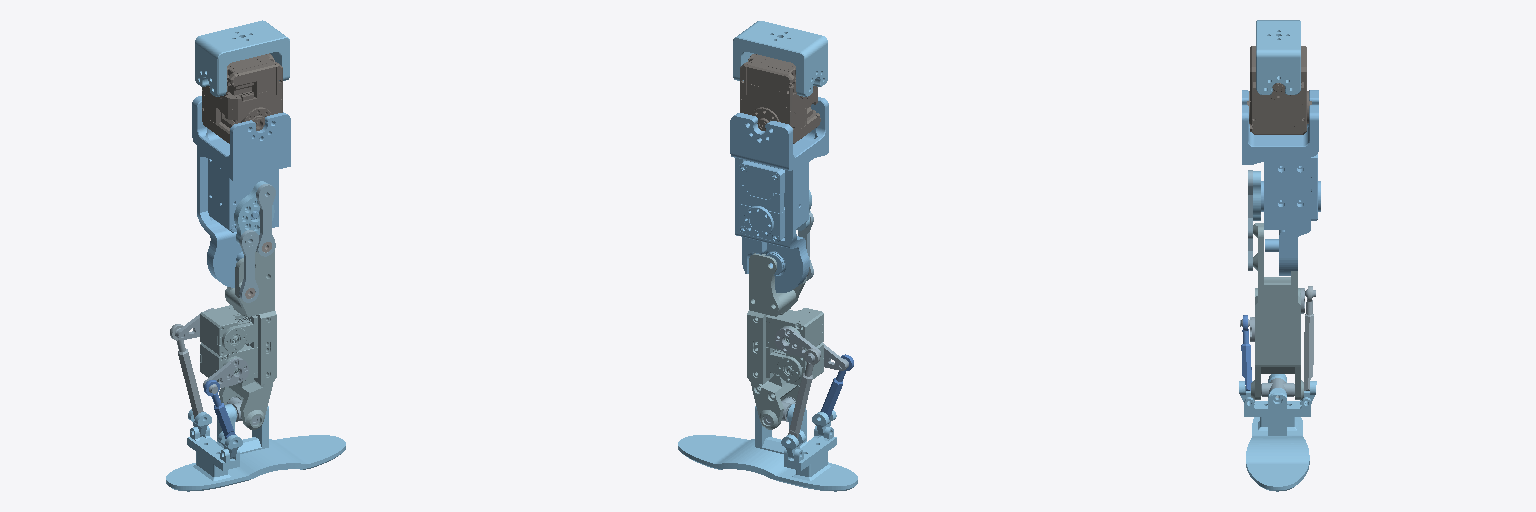
--- Facts derived from the render (not from the file) ---
The picture shows the robot from 3 angles, left to right: view 1: azimuth 30°, elevation 25°; view 2: azimuth 150°, elevation 25°; view 3: azimuth 270°, elevation 25°; orthographic projection.
Robot: left_leg_XM430 — 18 links, 17 joints (16 revolute, 1 fixed); root link hip_yaw_link; default pose: all joints at 0.
Visible links, largest first — view 1: left_hip_pitch_link_xm430, left_calf_link, left_sole_link, hip_roll_link, hip_yaw_link, ank_roll_link, knee_rod, knee_rod_2, xm430_plate, ank_motor_rod_long, ank_motor_arm_2, ank_motor_rod_short; view 2: left_hip_pitch_link_xm430, left_calf_link, left_sole_link, hip_roll_link, hip_yaw_link, ank_roll_link, ank_motor_rod_long, ank_motor_arm, ank_motor_rod_short; view 3: left_hip_pitch_link_xm430, left_calf_link, left_sole_link, hip_yaw_link, hip_roll_link, ank_roll_link, ank_motor_rod_long, ank_motor_rod_short.
Boxes of the visible links, x1,y1,x2,y2 form: left_hip_pitch_link_xm430: [192, 96, 290, 287]; left_calf_link: [200, 239, 276, 429]; left_sole_link: [166, 435, 345, 491]; hip_roll_link: [202, 53, 282, 143]; hip_yaw_link: [195, 20, 289, 96]; ank_roll_link: [187, 404, 268, 470]; knee_rod: [256, 184, 275, 256]; knee_rod_2: [239, 230, 258, 302]; xm430_plate: [234, 181, 274, 243]; ank_motor_rod_long: [170, 324, 203, 418]; ank_motor_arm_2: [203, 358, 248, 393]; ank_motor_rod_short: [204, 380, 235, 438]; left_hip_pitch_link_xm430: [730, 97, 828, 292]; left_calf_link: [747, 253, 823, 429]; left_sole_link: [678, 435, 857, 491]; hip_roll_link: [740, 54, 820, 143]; hip_yaw_link: [733, 21, 827, 96]; ank_roll_link: [755, 404, 836, 470]; ank_motor_rod_long: [788, 348, 819, 438]; ank_motor_arm: [775, 327, 820, 362]; ank_motor_rod_short: [821, 354, 853, 418]; left_hip_pitch_link_xm430: [1242, 90, 1320, 275]; left_calf_link: [1251, 223, 1303, 399]; left_sole_link: [1246, 417, 1309, 491]; hip_yaw_link: [1256, 20, 1300, 94]; hip_roll_link: [1247, 46, 1311, 134]; ank_roll_link: [1244, 374, 1310, 435]; ank_motor_rod_long: [1304, 286, 1313, 390]; ank_motor_rod_short: [1241, 315, 1251, 390].
Bounding box of the posed robot: 0.12 × 0.0516 × 0.285 m (x, y, z).
Meshes: 18 distinct files referenced, 18 mesh visuals loaded (18 binary STL).

URDF robot description (left_leg_XM430):
<?xml version="1.0" ?><robot name="left_leg_XM430">  
  <link name="hip_yaw_link">    
    <visual>      
      <origin xyz="0 0 0" rpy="0 -0 0"/>      
      <geometry>        
        <mesh filename="package:///meshes/left_hip_yaw_link_visual.stl"/>        
      </geometry>      
      <material name="hip_yaw_link_material">        
        <color rgba="0.61568627450980395466 0.81176470588235294379 0.92941176470588238168 1.0"/>        
      </material>      
    </visual>    
    <collision>      
      <origin xyz="0 0 0" rpy="0 -0 0"/>      
      <geometry>        
        <mesh filename="package:///meshes/left_hip_yaw_link_collision.stl"/>        
      </geometry>      
    </collision>    
    <inertial>      
      <origin xyz="6.7015689604249926662e-20 -4.3918015011849180404e-19 -0.0098390489054829104176" rpy="0 0 0"/>      
      <mass value="0.017999999999999995171"/>      
      <inertia ixx="2.638503389144253662e-06" ixy="0" ixz="0" iyy="7.6596731957046890345e-06" iyz="0" izz="7.7220708070894769837e-06"/>      
    </inertial>    
  </link>  

  <link name="hip_roll_link">    
    <visual>      
      <origin xyz="0 0 0" rpy="0 -0 0"/>      
      <geometry>        
        <mesh filename="package:///meshes/left_hip_roll_link_visual.stl"/>        
      </geometry>      
      <material name="hip_roll_link_material">        
        <color rgba="0.51698661238356036218 0.50347815951093466413 0.49050589017722012741 1.0"/>        
      </material>      
    </visual>    
    <collision>      
      <origin xyz="0 0 0" rpy="0 -0 0"/>      
      <geometry>        
        <mesh filename="package:///meshes/left_hip_roll_link_collision.stl"/>        
      </geometry>      
    </collision>    
    <inertial>      
      <origin xyz="-0.011999849582185674601 -0.0004959809079401069189 -0.018504111838598645556" rpy="0 0 0"/>      
      <mass value="0.10699970659110669136"/>      
      <inertia ixx="2.2075996228675713259e-05" ixy="-4.5005801829347553346e-08" ixz="-4.5362214344093656614e-08" iyy="2.9866686933524272515e-05" iyz="-5.560631946651787421e-07" izz="2.9866720157736384206e-05"/>      
    </inertial>    
  </link>  

  <link name="left_hip_pitch_link_xm430">    
    <visual>      
      <origin xyz="0 0 0" rpy="0 -0 0"/>      
      <geometry>        
        <mesh filename="package:///meshes/left_hip_pitch_link_xm430_visual.stl"/>        
      </geometry>      
      <material name="left_hip_pitch_link_xm430_material">        
        <color rgba="0.57975821272406502516 0.77143728959223789587 0.90851483081009554166 1.0"/>        
      </material>      
    </visual>    
    <collision>      
      <origin xyz="0 0 0" rpy="0 -0 0"/>      
      <geometry>        
        <mesh filename="package:///meshes/left_hip_pitch_link_xm430_collision.stl"/>        
      </geometry>      
    </collision>    
    <inertial>      
      <origin xyz="-0.0025375182677326571165 -0.053177226500122250219 -0.015212672942454373223" rpy="0 0 0"/>      
      <mass value="0.029200901345856088154"/>      
      <inertia ixx="4.1359196178562864237e-05" ixy="-2.8912579823061075449e-07" ixz="-3.4728834573984853464e-09" iyy="9.0571276411052843605e-06" iyz="1.6889888074652840905e-06" izz="4.0741364151347275225e-05"/>      
    </inertial>    
  </link>  

  <link name="left_calf_link">    
    <visual>      
      <origin xyz="0 0 0" rpy="0 -0 0"/>      
      <geometry>        
        <mesh filename="package:///meshes/left_calf_link_visual.stl"/>        
      </geometry>      
      <material name="left_calf_link_material">        
        <color rgba="0.61177930930733637194 0.71653254923097864371 0.74989274724786580961 1.0"/>        
      </material>      
    </visual>    
    <collision>      
      <origin xyz="0 0 0" rpy="0 -0 0"/>      
      <geometry>        
        <mesh filename="package:///meshes/left_calf_link_collision.stl"/>        
      </geometry>      
    </collision>    
    <inertial>      
      <origin xyz="0.0011880880235005835451 -0.049643068417602347064 -0.009863485314329628259" rpy="0 0 0"/>      
      <mass value="0.079607494529051470167"/>      
      <inertia ixx="4.8048473174226137767e-05" ixy="3.5190650833685130949e-06" ixz="3.9918574956074798845e-07" iyy="1.4293033116538981093e-05" iyz="4.8859952267606043958e-07" izz="5.1177637188996500414e-05"/>      
    </inertial>    
  </link>  

  <link name="bearing_683">    
    <visual>      
      <origin xyz="0 0 0" rpy="0 -0 0"/>      
      <geometry>        
        <mesh filename="package:///meshes/left_bearing_683_visual.stl"/>        
      </geometry>      
      <material name="bearing_683_material">        
        <color rgba="0.64705882352941179736 0.64705882352941179736 0.64705882352941179736 1.0"/>        
      </material>      
    </visual>    
    <collision>      
      <origin xyz="0 0 0" rpy="0 -0 0"/>      
      <geometry>        
        <mesh filename="package:///meshes/left_bearing_683_collision.stl"/>        
      </geometry>      
    </collision>    
    <inertial>      
      <origin xyz="1.0732094295242002361e-19 -2.4186774283162282142e-19 -0.0015500000000000003792" rpy="0 0 0"/>      
      <mass value="0.00048694686130641793437"/>      
      <inertia ixx="2.1551456503319879113e-09" ixy="2.3860364254964754589e-27" ixz="3.2226027709542401446e-38" iyy="2.1551456503319883249e-09" iyz="4.7329117499858264175e-38" izz="3.5303647444715305817e-09"/>      
    </inertial>    
  </link>  

  <joint name="left_knee_front_rev_2" type="revolute">    
    <origin xyz="-0.0057402514854763518615 0.013858192987669382124 -0.026199999999999619427" rpy="-2.0062355525798721356e-14 -1.903658682771083387e-14 1.5737070550412661785"/>    
    <parent link="left_calf_link"/>    
    <child link="bearing_683"/>    
    <axis xyz="0 0 1"/>    
    <limit effort="1" velocity="20" lower="-6.283185307179586232" upper="6.283185307179586232"/>    
    <joint_properties friction="0.0"/>    
  </joint>  

  <link name="bearing_683_2">    
    <visual>      
      <origin xyz="0 0 0" rpy="0 -0 0"/>      
      <geometry>        
        <mesh filename="package:///meshes/left_bearing_683_2_visual.stl"/>        
      </geometry>      
      <material name="bearing_683_2_material">        
        <color rgba="0.64705882352941179736 0.64705882352941179736 0.64705882352941179736 1.0"/>        
      </material>      
    </visual>    
    <collision>      
      <origin xyz="0 0 0" rpy="0 -0 0"/>      
      <geometry>        
        <mesh filename="package:///meshes/left_bearing_683_2_collision.stl"/>        
      </geometry>      
    </collision>    
    <inertial>      
      <origin xyz="1.0732094295233882159e-19 -1.1092294808199977204e-18 -0.0015500000000000003792" rpy="0 0 0"/>      
      <mass value="0.00048694686130641793437"/>      
      <inertia ixx="2.1551456503319879113e-09" ixy="1.1019900283537080477e-27" ixz="8.8307566613355357602e-38" iyy="2.1551456503319874977e-09" iyz="-3.6503814788283070297e-38" izz="3.5303647444715305817e-09"/>      
    </inertial>    
  </link>  

  <joint name="left_knee_back_rev_2" type="revolute">    
    <origin xyz="0.0057402514854763683413 -0.013858192987669298857 -0.026199999999999869227" rpy="-3.4182534048236850093e-16 -2.9781674294251979449e-14 1.5739207094625164984"/>    
    <parent link="left_calf_link"/>    
    <child link="bearing_683_2"/>    
    <axis xyz="0 0 1"/>    
    <limit effort="1" velocity="20" lower="-6.283185307179586232" upper="6.283185307179586232"/>    
    <joint_properties friction="0.0"/>    
  </joint>  

  <link name="ank_pitch_link">    
    <visual>      
      <origin xyz="0 0 0" rpy="0 -0 0"/>      
      <geometry>        
        <mesh filename="package:///meshes/left_ank_pitch_link_visual.stl"/>        
      </geometry>      
      <material name="ank_pitch_link_material">        
        <color rgba="0.63189161126160264814 0.7266866879354088038 0.78356373393969258601 1.0"/>        
      </material>      
    </visual>    
    <collision>      
      <origin xyz="0 0 0" rpy="0 -0 0"/>      
      <geometry>        
        <mesh filename="package:///meshes/left_ank_pitch_link_collision.stl"/>        
      </geometry>      
    </collision>    
    <inertial>      
      <origin xyz="0.00059528282565921724918 -4.0269683161750494364e-08 7.7616092714039670114e-08" rpy="0 0 0"/>      
      <mass value="0.0042238381753791614387"/>      
      <inertia ixx="3.9782741364678456013e-07" ixy="-1.6834347827674826857e-13" ixz="2.0919188852949828642e-14" iyy="4.3705254067423072352e-07" iyz="-1.6428822181660775663e-12" izz="8.8858574534613002312e-08"/>      
    </inertial>    
  </link>  

  <link name="ank_roll_link">    
    <visual>      
      <origin xyz="0 0 0" rpy="0 -0 0"/>      
      <geometry>        
        <mesh filename="package:///meshes/left_ank_roll_link_visual.stl"/>        
      </geometry>      
      <material name="ank_roll_link_material">        
        <color rgba="0.61568627450980395466 0.81176470588235294379 0.92941176470588238168 1.0"/>        
      </material>      
    </visual>    
    <collision>      
      <origin xyz="0 0 0" rpy="0 -0 0"/>      
      <geometry>        
        <mesh filename="package:///meshes/left_ank_roll_link_collision.stl"/>        
      </geometry>      
    </collision>    
    <inertial>      
      <origin xyz="-3.3748977754135122542e-09 0.016071733707723686452 -0.0096236810250137777567" rpy="0 0 0"/>      
      <mass value="0.010900000000000006906"/>      
      <inertia ixx="2.6058536057764959133e-06" ixy="-5.4054321086197607014e-13" ixz="6.0692549095841946231e-13" iyy="2.5928781338360460482e-06" iyz="3.9359839679282425038e-07" izz="1.6179884211196010928e-06"/>      
    </inertial>    
  </link>  

  <link name="ank_rr_link">    
    <visual>      
      <origin xyz="0 0 0" rpy="0 -0 0"/>      
      <geometry>        
        <mesh filename="package:///meshes/left_ank_rr_link_visual.stl"/>        
      </geometry>      
      <material name="ank_rr_link_material">        
        <color rgba="0.61568627450980395466 0.81176470588235294379 0.92941176470588238168 1.0"/>        
      </material>      
    </visual>    
    <collision>      
      <origin xyz="0 0 0" rpy="0 -0 0"/>      
      <geometry>        
        <mesh filename="package:///meshes/left_ank_rr_link_collision.stl"/>        
      </geometry>      
    </collision>    
    <inertial>      
      <origin xyz="-4.5249610960605905047e-05 0.0063096429836314591247 -1.9359077708118618298e-19" rpy="0 0 0"/>      
      <mass value="0.0014499999999999999001"/>      
      <inertia ixx="2.9739579267716150033e-08" ixy="2.4213146797978005064e-10" ixz="3.5523394884482595477e-14" iyy="2.7430027724071957055e-08" iyz="9.162206139630780346e-32" izz="4.2921949116163665819e-08"/>      
    </inertial>    
  </link>  

  <link name="ank_motor_rod_long">    
    <visual>      
      <origin xyz="0 0 0" rpy="0 -0 0"/>      
      <geometry>        
        <mesh filename="package:///meshes/left_ank_motor_rod_long_visual.stl"/>        
      </geometry>      
      <material name="ank_motor_rod_long_material">        
        <color rgba="0.63549975559783222767 0.7077439301702044272 0.75109043491362781353 1.0"/>        
      </material>      
    </visual>    
    <collision>      
      <origin xyz="0 0 0" rpy="0 -0 0"/>      
      <geometry>        
        <mesh filename="package:///meshes/left_ank_motor_rod_long_collision.stl"/>        
      </geometry>      
    </collision>    
    <inertial>      
      <origin xyz="2.4855086863516898073e-10 0.034559019974062264724 0.00093851704878454675525" rpy="0 0 0"/>      
      <mass value="0.0021712857268636714773"/>      
      <inertia ixx="8.5350290058000125532e-07" ixy="1.4884244251843848646e-14" ixz="4.5749525025437181107e-11" iyy="1.3237321792739489693e-08" iyz="-4.3668910960862267179e-09" izz="8.5812217519451419348e-07"/>      
    </inertial>    
  </link>  

  <joint name="left_ank_long_rev_2" type="revolute">    
    <origin xyz="0 0.0099999999999998978595 0" rpy="-1.570796326794896558 1.3320366994106831449 -1.5707963267948692465"/>    
    <parent link="ank_rr_link"/>    
    <child link="ank_motor_rod_long"/>    
    <axis xyz="0 0 1"/>    
    <limit effort="1" velocity="20" lower="-1.570796326794896558" upper="1.570796326794896558"/>    
    <joint_properties friction="0.0"/>    
  </joint>  

  <joint name="left_ank_long_rev_1" type="revolute">    
    <origin xyz="-0.018000000000000009048 0.015999999999999986455 -0.020600000000000000255" rpy="2.8727848934883667062e-16 -5.525634831039645443e-16 3.123369568546756625"/>    
    <parent link="ank_roll_link"/>    
    <child link="ank_rr_link"/>    
    <axis xyz="0 0 1"/>    
    <limit effort="1" velocity="20" lower="-1.570796326794896558" upper="1.570796326794896558"/>    
    <joint_properties friction="0.0"/>    
  </joint>  

  <link name="ank_rr_link_2">    
    <visual>      
      <origin xyz="0 0 0" rpy="0 -0 0"/>      
      <geometry>        
        <mesh filename="package:///meshes/left_ank_rr_link_2_visual.stl"/>        
      </geometry>      
      <material name="ank_rr_link_2_material">        
        <color rgba="0.61568627450980395466 0.81176470588235294379 0.92941176470588238168 1.0"/>        
      </material>      
    </visual>    
    <collision>      
      <origin xyz="0 0 0" rpy="0 -0 0"/>      
      <geometry>        
        <mesh filename="package:///meshes/left_ank_rr_link_2_collision.stl"/>        
      </geometry>      
    </collision>    
    <inertial>      
      <origin xyz="-4.5249610960602428824e-05 -0.0063096429836314591247 3.6630377290353359488e-18" rpy="0 0 0"/>      
      <mass value="0.0014499999999999999001"/>      
      <inertia ixx="2.9739579267716150033e-08" ixy="-2.4213146797978005064e-10" ixz="-3.5523394884482595477e-14" iyy="2.7430027724071957055e-08" iyz="-3.6789861909458584708e-33" izz="4.2921949116163665819e-08"/>      
    </inertial>    
  </link>  

  <link name="ank_motor_rod_short">    
    <visual>      
      <origin xyz="0 0 0" rpy="0 -0 0"/>      
      <geometry>        
        <mesh filename="package:///meshes/left_ank_motor_rod_short_visual.stl"/>        
      </geometry>      
      <material name="ank_motor_rod_short_material">        
        <color rgba="0.41222606689734714314 0.58339100346020755783 0.8110726643598615837 1.0"/>        
      </material>      
    </visual>    
    <collision>      
      <origin xyz="0 0 0" rpy="0 -0 0"/>      
      <geometry>        
        <mesh filename="package:///meshes/left_ank_motor_rod_short_collision.stl"/>        
      </geometry>      
    </collision>    
    <inertial>      
      <origin xyz="2.6038941161397234857e-10 0.023830465465870833558 0.00090403506359625226095" rpy="0 0 0"/>      
      <mass value="0.0017000000000000005558"/>      
      <inertia ixx="3.3153416252670008308e-07" ixy="8.7419770413212724484e-15" ixz="4.5749941567653724704e-11" iyy="1.0947363610305691502e-08" iyz="-3.5863098646413951952e-09" izz="3.3621340447865130812e-07"/>      
    </inertial>    
  </link>  

  <joint name="left_ank_short_rev_2" type="revolute">    
    <origin xyz="-3.4694469519536141888e-18 -0.010000000000000008882 6.9388939039072283776e-18" rpy="-1.570796326794896558 -1.2119133862910269617 -1.5707963267948883423"/>    
    <parent link="ank_rr_link_2"/>    
    <child link="ank_motor_rod_short"/>    
    <axis xyz="0 0 1"/>    
    <limit effort="1" velocity="20" lower="-1.570796326794896558" upper="1.570796326794896558"/>    
    <joint_properties friction="0.0"/>    
  </joint>  

  <joint name="left_ank_short_rev_1" type="revolute">    
    <origin xyz="0.017999999999999995171 0.015999999999999930944 -0.020600000000000003725" rpy="-1.0311645834080153765e-16 5.6225127493299344711e-16 0.026118548507380327101"/>    
    <parent link="ank_roll_link"/>    
    <child link="ank_rr_link_2"/>    
    <axis xyz="0 0 1"/>    
    <limit effort="1" velocity="20" lower="-1.570796326794896558" upper="1.570796326794896558"/>    
    <joint_properties friction="0.0"/>    
  </joint>  

  <link name="left_sole_link">    
    <visual>      
      <origin xyz="0 0 0" rpy="0 -0 0"/>      
      <geometry>        
        <mesh filename="package:///meshes/left_sole_link_visual.stl"/>        
      </geometry>      
      <material name="left_sole_link_material">        
        <color rgba="0.61568627450980395466 0.81176470588235283277 0.92941176470588238168 1.0"/>        
      </material>      
    </visual>    
    <collision>      
      <origin xyz="0 0 0" rpy="0 -0 0"/>      
      <geometry>        
        <mesh filename="package:///meshes/left_sole_link_collision.stl"/>        
      </geometry>      
    </collision>    
    <inertial>      
      <origin xyz="-0.028268455053070316862 -2.3408773987365633526e-07 -0.010206307024274999945" rpy="0 0 0"/>      
      <mass value="0.013899999999999999162"/>      
      <inertia ixx="1.3160509347109557101e-06" ixy="3.0094161237965149129e-12" ixz="-2.3741900688425285732e-07" iyy="1.3575574544571525394e-05" iyz="-6.7706521655058411305e-12" izz="1.4673603612256130453e-05"/>      
    </inertial>    
  </link>  

  <joint name="left_sole" type="fixed">    
    <origin xyz="-9.2157184661267876891e-18 0.024999999999999994449 -0.022600000000000002032" rpy="1.570796326794896558 1.570796326794896336 0"/>    
    <parent link="ank_roll_link"/>    
    <child link="left_sole_link"/>    
    <axis xyz="0 0 1"/>    
    <limit effort="1" velocity="20"/>    
    <joint_properties friction="0.0"/>    
  </joint>  

  <joint name="left_ank_roll" type="revolute">    
    <origin xyz="0.0014999999999999985133 0 1.4961989980299961189e-17" rpy="-8.1315126453654400003e-20 1.5707963267948643615 0"/>    
    <parent link="ank_pitch_link"/>    
    <child link="ank_roll_link"/>    
    <axis xyz="0 0 1"/>    
    <limit effort="1" velocity="20" lower="-0.785398163397448279" upper="0.785398163397448279"/>    
    <joint_properties friction="0.0"/>    
  </joint>  

  <joint name="left_ank_pitch" type="revolute">    
    <origin xyz="1.883621368080212499e-17 -0.10000000000000011657 -0.010400000000000679534" rpy="-2.2204498262023812517e-16 1.8329922217212873636e-25 3.1415926535897735761"/>    
    <parent link="left_calf_link"/>    
    <child link="ank_pitch_link"/>    
    <axis xyz="0 0 1"/>    
    <limit effort="1" velocity="20" lower="-0.785398163397448279" upper="0.95993108859688125456"/>    
    <joint_properties friction="0.0"/>    
  </joint>  

  <link name="ank_motor_arm">    
    <visual>      
      <origin xyz="0 0 0" rpy="0 -0 0"/>      
      <geometry>        
        <mesh filename="package:///meshes/left_ank_motor_arm_visual.stl"/>        
      </geometry>      
      <material name="ank_motor_arm_material">        
        <color rgba="0.62517751827980905244 0.70593642422614044651 0.75978993426662777555 1.0"/>        
      </material>      
    </visual>    
    <collision>      
      <origin xyz="0 0 0" rpy="0 -0 0"/>      
      <geometry>        
        <mesh filename="package:///meshes/left_ank_motor_arm_collision.stl"/>        
      </geometry>      
    </collision>    
    <inertial>      
      <origin xyz="0.014511489101591688866 1.5458538573533088711e-17 0.0040925443765950676733" rpy="0 0 0"/>      
      <mass value="0.0020595846677894939954"/>      
      <inertia ixx="2.759183675652200141e-08" ixy="-1.9009878417117313037e-22" ixz="-3.0270788206594848502e-08" iyy="1.6138599216238432643e-07" iyz="-6.6015574537835669746e-23" izz="1.6437836765016276946e-07"/>      
    </inertial>    
  </link>  

  <joint name="left_ank_act_1" type="revolute">    
    <origin xyz="0.013499999999997966751 -0.044499999999993017363 0.0040000000000045363852" rpy="-4.512918339157919121e-13 -1.8247036451598847972e-13 -0.21173394130250977607"/>    
    <parent link="left_calf_link"/>    
    <child link="ank_motor_arm"/>    
    <axis xyz="0 0 1"/>    
    <limit effort="1" velocity="20" lower="-1.3089969389957472057" upper="1.3089969389957472057"/>    
    <joint_properties friction="0.0"/>    
  </joint>  

  <link name="ank_motor_arm_2">    
    <visual>      
      <origin xyz="0 0 0" rpy="0 -0 0"/>      
      <geometry>        
        <mesh filename="package:///meshes/left_ank_motor_arm_2_visual.stl"/>        
      </geometry>      
      <material name="ank_motor_arm_2_material">        
        <color rgba="0.62517751827980905244 0.70593642422614044651 0.75978993426662777555 1.0"/>        
      </material>      
    </visual>    
    <collision>      
      <origin xyz="0 0 0" rpy="0 -0 0"/>      
      <geometry>        
        <mesh filename="package:///meshes/left_ank_motor_arm_2_collision.stl"/>        
      </geometry>      
    </collision>    
    <inertial>      
      <origin xyz="0.014511489101591676723 -1.112981947261650627e-19 0.0040925443765951119088" rpy="0 0 0"/>      
      <mass value="0.0020595846677894939954"/>      
      <inertia ixx="2.7591836756522302503e-08" ixy="1.1275965192317790989e-23" ixz="-3.0270788206595285254e-08" iyy="1.6138599216238480289e-07" iyz="2.0037669756401538607e-22" izz="1.6437836765016303416e-07"/>      
    </inertial>    
  </link>  

  <joint name="left_ank_act_2" type="revolute">    
    <origin xyz="0.013500000000004746051 -0.064499999999987706056 -0.024800000000001584666" rpy="-3.1415926535893468063 1.0027652560385185679e-14 -0.22995607267388484818"/>    
    <parent link="left_calf_link"/>    
    <child link="ank_motor_arm_2"/>    
    <axis xyz="0 0 1"/>    
    <limit effort="1" velocity="20" lower="-1.3089969389957472057" upper="1.3089969389957472057"/>    
    <joint_properties friction="0.0"/>    
  </joint>  

  <joint name="left_knee_pitch" type="revolute">    
    <origin xyz="2.2117522176442097808e-17 -0.095999999999999974243 -0.0091999999999999824973" rpy="-9.7888408496123132916e-15 3.4506032502141251583e-16 2.567762240649299705e-15"/>    
    <parent link="left_hip_pitch_link_xm430"/>    
    <child link="left_calf_link"/>    
    <axis xyz="0 0 1"/>    
    <limit effort="1" velocity="20" lower="0" upper="1.9198621771937625091"/>    
    <joint_properties friction="0.0"/>    
  </joint>  

  <link name="xm430_plate">    
    <visual>      
      <origin xyz="0 0 0" rpy="0 -0 0"/>      
      <geometry>        
        <mesh filename="package:///meshes/left_xm430_plate_visual.stl"/>        
      </geometry>      
      <material name="xm430_plate_material">        
        <color rgba="0.61568627450980395466 0.81176470588235294379 0.92941176470588227065 1.0"/>        
      </material>      
    </visual>    
    <collision>      
      <origin xyz="0 0 0" rpy="0 -0 0"/>      
      <geometry>        
        <mesh filename="package:///meshes/left_xm430_plate_collision.stl"/>        
      </geometry>      
    </collision>    
    <inertial>      
      <origin xyz="-2.4285323750692823328e-17 1.9685523391706791778e-18 -0.0024039046431217972466" rpy="0 0 0"/>      
      <mass value="0.0027000000000000001429"/>      
      <inertia ixx="1.293311664536341083e-07" ixy="-6.8936588702566466883e-08" ixz="-1.0792300286928120643e-36" iyy="2.6720434385876688324e-07" iyz="-2.0174295513870425417e-36" izz="3.8533537562751439267e-07"/>      
    </inertial>    
  </link>  

  <link name="knee_rod">    
    <visual>      
      <origin xyz="0 0 0" rpy="0 -0 0"/>      
      <geometry>        
        <mesh filename="package:///meshes/left_knee_rod_visual.stl"/>        
      </geometry>      
      <material name="knee_rod_material">        
        <color rgba="0.62711287994822195735 0.75177502733065859619 0.8265723157601205795 1.0"/>        
      </material>      
    </visual>    
    <collision>      
      <origin xyz="0 0 0" rpy="0 -0 0"/>      
      <geometry>        
        <mesh filename="package:///meshes/left_knee_rod_collision.stl"/>        
      </geometry>      
    </collision>    
    <inertial>      
      <origin xyz="0.010967337084300846431 3.1521428272557010914e-05 -0.0015872899055776874648" rpy="0 0 0"/>      
      <mass value="0.0013369468613064179954"/>      
      <inertia ixx="9.6972467125837695887e-09" ixy="-2.6477920303729672181e-10" ixz="3.1323426701696586354e-10" iyy="2.4572581080075166109e-07" iyz="9.0027245620290024723e-13" izz="2.533776572151701722e-07"/>      
    </inertial>    
  </link>  

  <joint name="left_knee_front_rev_1" type="revolute">    
    <origin xyz="0.013858192987669298857 0.0057402514854763466573 -0.0050000000000000027062" rpy="-8.6224438144716539469e-15 8.3081819011448317203e-15 -3.138681925343421053"/>    
    <parent link="xm430_plate"/>    
    <child link="knee_rod"/>    
    <axis xyz="0 0 1"/>    
    <limit effort="1" velocity="20" lower="-6.283185307179586232" upper="6.283185307179586232"/>    
    <joint_properties friction="0.0"/>    
  </joint>  

  <link name="knee_rod_2">    
    <visual>      
      <origin xyz="0 0 0" rpy="0 -0 0"/>      
      <geometry>        
        <mesh filename="package:///meshes/left_knee_rod_2_visual.stl"/>        
      </geometry>      
      <material name="knee_rod_2_material">        
        <color rgba="0.62711287994822195735 0.75177502733065859619 0.8265723157601205795 1.0"/>        
      </material>      
    </visual>    
    <collision>      
      <origin xyz="0 0 0" rpy="0 -0 0"/>      
      <geometry>        
        <mesh filename="package:///meshes/left_knee_rod_2_collision.stl"/>        
      </geometry>      
    </collision>    
    <inertial>      
      <origin xyz="0.01096734331835830592 2.6835026929233934723e-05 -0.0015872899055774424351" rpy="0 0 0"/>      
      <mass value="0.0013369468613064179954"/>      
      <inertia ixx="9.6970372506189099743e-09" ixy="-2.2541367799788274447e-10" ixz="3.1323444506172159439e-10" iyy="2.4572591553263387398e-07" iyz="7.6642579330299712232e-13" izz="2.5337755248509198067e-07"/>      
    </inertial>    
  </link>  

  <joint name="left_knee_back_rev_1" type="revolute">    
    <origin xyz="-0.013858192987669326612 -0.0057402514854763449226 -0.0049999999999999992367" rpy="-9.8678816935430688804e-17 1.9053378273586200235e-14 -3.1384682709221709551"/>    
    <parent link="xm430_plate"/>    
    <child link="knee_rod_2"/>    
    <axis xyz="0 0 1"/>    
    <limit effort="1" velocity="20" lower="-6.283185307179586232" upper="6.283185307179586232"/>    
    <joint_properties friction="0.0"/>    
  </joint>  

  <joint name="left_knee_act" type="revolute">    
    <origin xyz="-0.00015000000000000730522 -0.061500000000000019929 -0.030400000000000135247" rpy="-1.3229322588422224447e-16 -9.4099897484365535516e-16 1.570796326794896558"/>    
    <parent link="left_hip_pitch_link_xm430"/>    
    <child link="xm430_plate"/>    
    <axis xyz="0 0 1"/>    
    <limit effort="1" velocity="20" lower="0" upper="1.9198621771937625091"/>    
    <joint_properties friction="0.0"/>    
  </joint>  

  <joint name="left_hip_pitch" type="revolute">    
    <origin xyz="-0.024000000716151277669 -0.019000000152441035017 -0.019000000152457018759" rpy="1.5707963267952340658 1.5707963267945346253 0"/>    
    <parent link="hip_roll_link"/>    
    <child link="left_hip_pitch_link_xm430"/>    
    <axis xyz="0 0 1"/>    
    <limit effort="1" velocity="20" lower="-1.570796326794896558" upper="1.570796326794896558"/>    
    <joint_properties friction="0.0"/>    
  </joint>  

  <joint name="left_hip_roll" type="revolute">    
    <origin xyz="0.018999999999999996059 -3.3500438890367315688e-18 -0.026000000000000002276" rpy="-3.141592653589793116 -1.5707963267948934494 0"/>    
    <parent link="hip_yaw_link"/>    
    <child link="hip_roll_link"/>    
    <axis xyz="0 0 1"/>    
    <limit effort="1" velocity="20" lower="-0.785398163397448279" upper="1.570796326794896558"/>    
    <joint_properties friction="0.0"/>    
  </joint>  


</robot>
